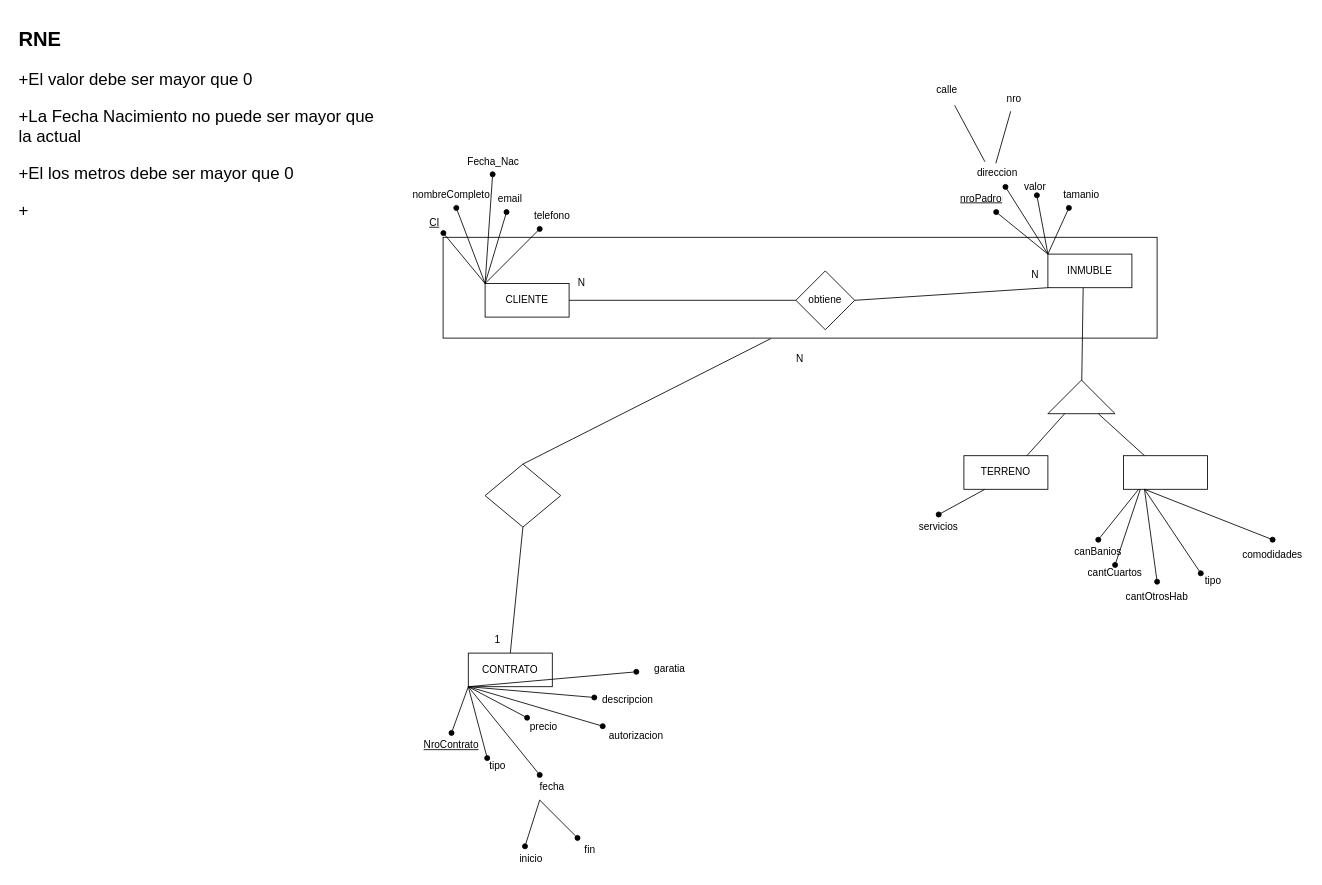
The diagram is 1322 pixels wide and 885 high, and some of its shapes have lost their labels. Here are the shapes that lost their labels. From the top down, the centre of each, then its label:
At (1165,472): "HABITABLE".
At (522,495): "genera".
